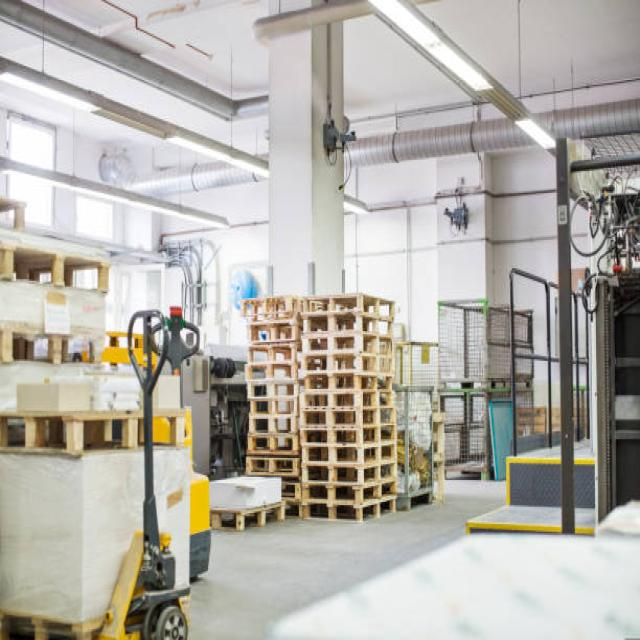Wooden-Pallets: (0, 240, 116, 297), (291, 489, 407, 530), (296, 289, 395, 327), (296, 436, 411, 468), (299, 312, 398, 345), (241, 446, 299, 479), (242, 358, 297, 389), (243, 406, 299, 436)
